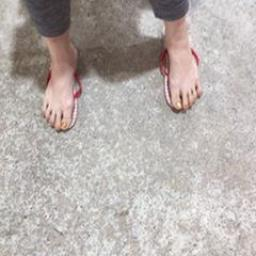Dorsal View -Both Feet-: (31, 17, 206, 142)
